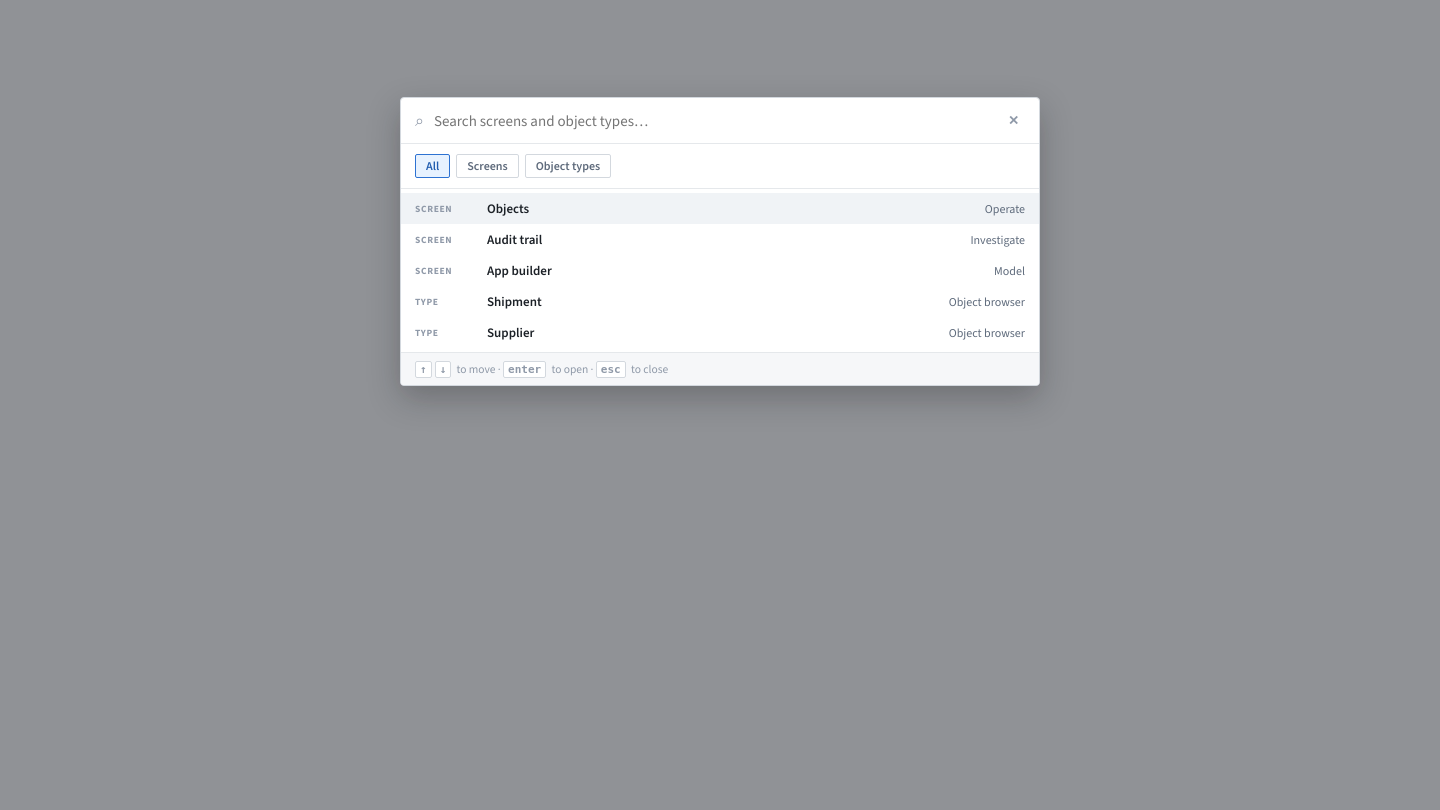
it: QuickSearch › narrows to one kind with a filter chip
The width and height of the screenshot is (1440, 810).
What coordinates should you click on to do the following:
click the button "Object types"
I would click on:
 (568, 166)
Its box is [525, 154, 611, 178].
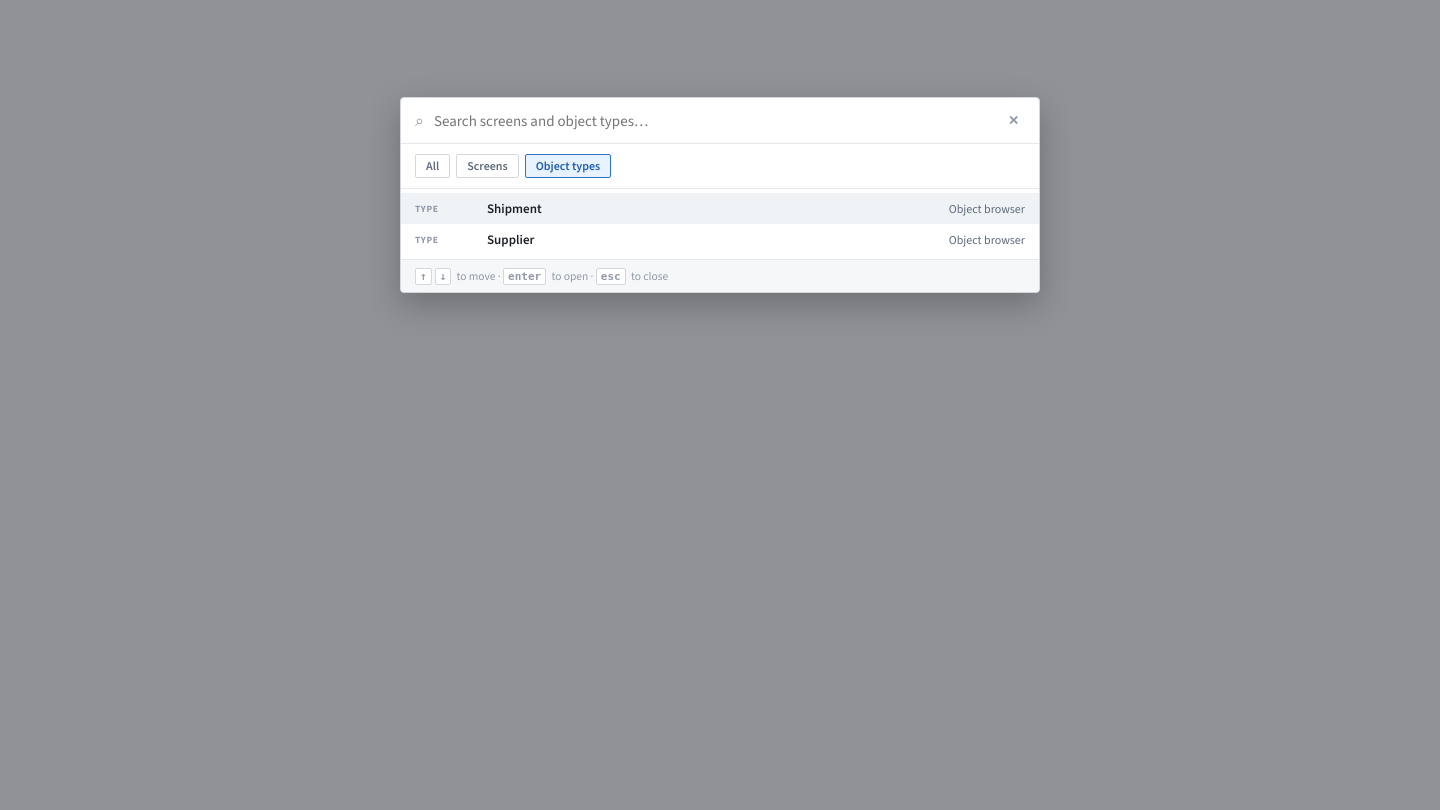
Expected: the text "Shipment" is shown, [487, 200, 542, 217]
Result: the button "Audit trail" is gone
